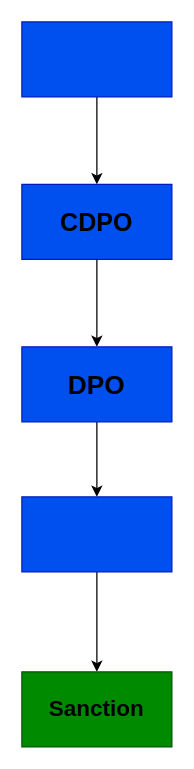
The diagram is 194 pixels wide and 769 high, and some of its shapes have lost their labels. Each missing label, with the centre of its shape:
Citizen: the point at 96,59
Director Finance: the point at 96,534
